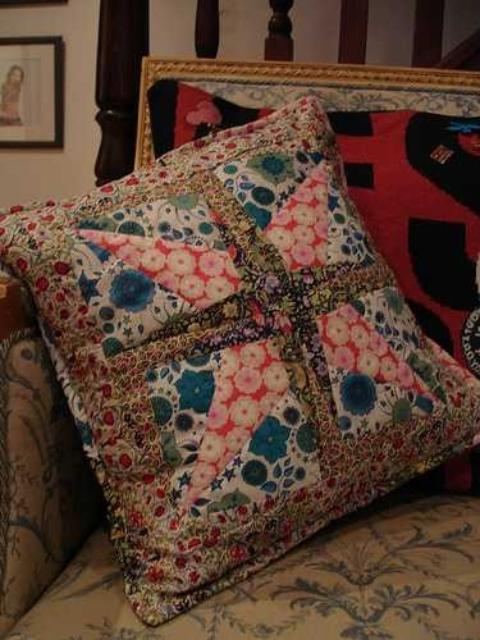pillow: (0, 90, 478, 626)
